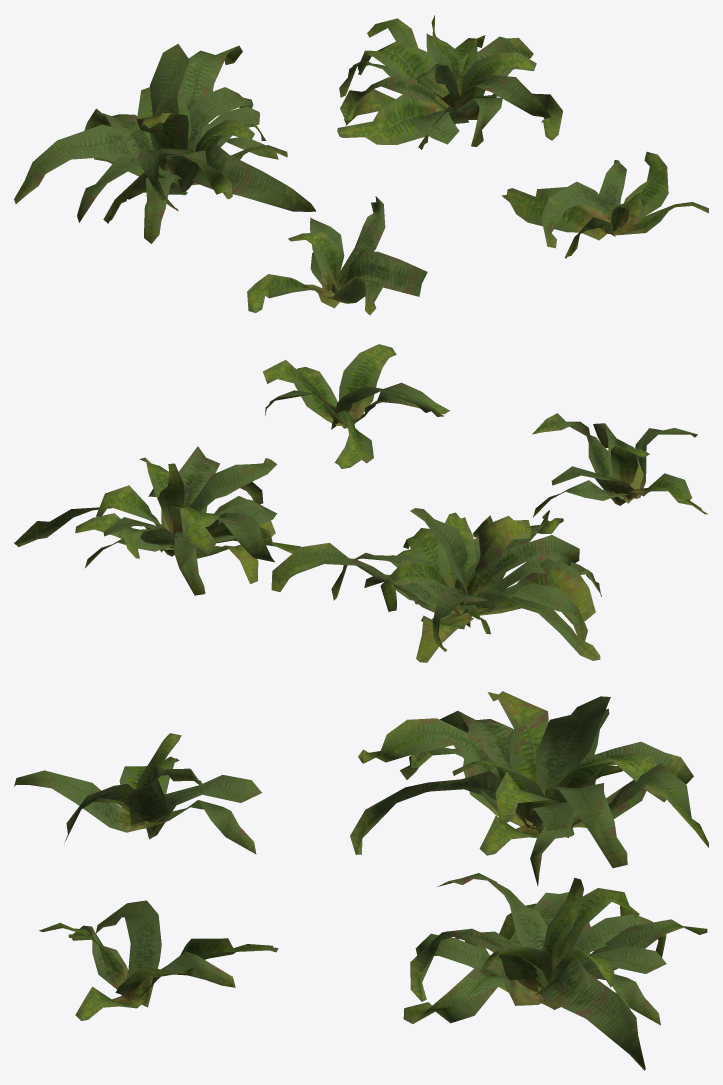
Rendered from fern_02.glb.
3 views of the same model, one above another, from view 1: azimuth 30°, elevation 25°; view 2: azimuth 150°, elevation 25°; view 3: azimuth 270°, elevation 25° (orthographic). The views are drawn at different scales.
Parts seen in each view (by area): view 1: fern_02_b; view 2: fern_02_b; view 3: fern_02_b.
Boxes of the visible parts, bbox=[...] form: fern_02_b: bbox=[14, 15, 708, 314]; fern_02_b: bbox=[14, 344, 708, 662]; fern_02_b: bbox=[14, 691, 708, 1070].
Size of the model in its own units: 1.97 by 0.4276 by 1.72.
1 material, 1 textured.
